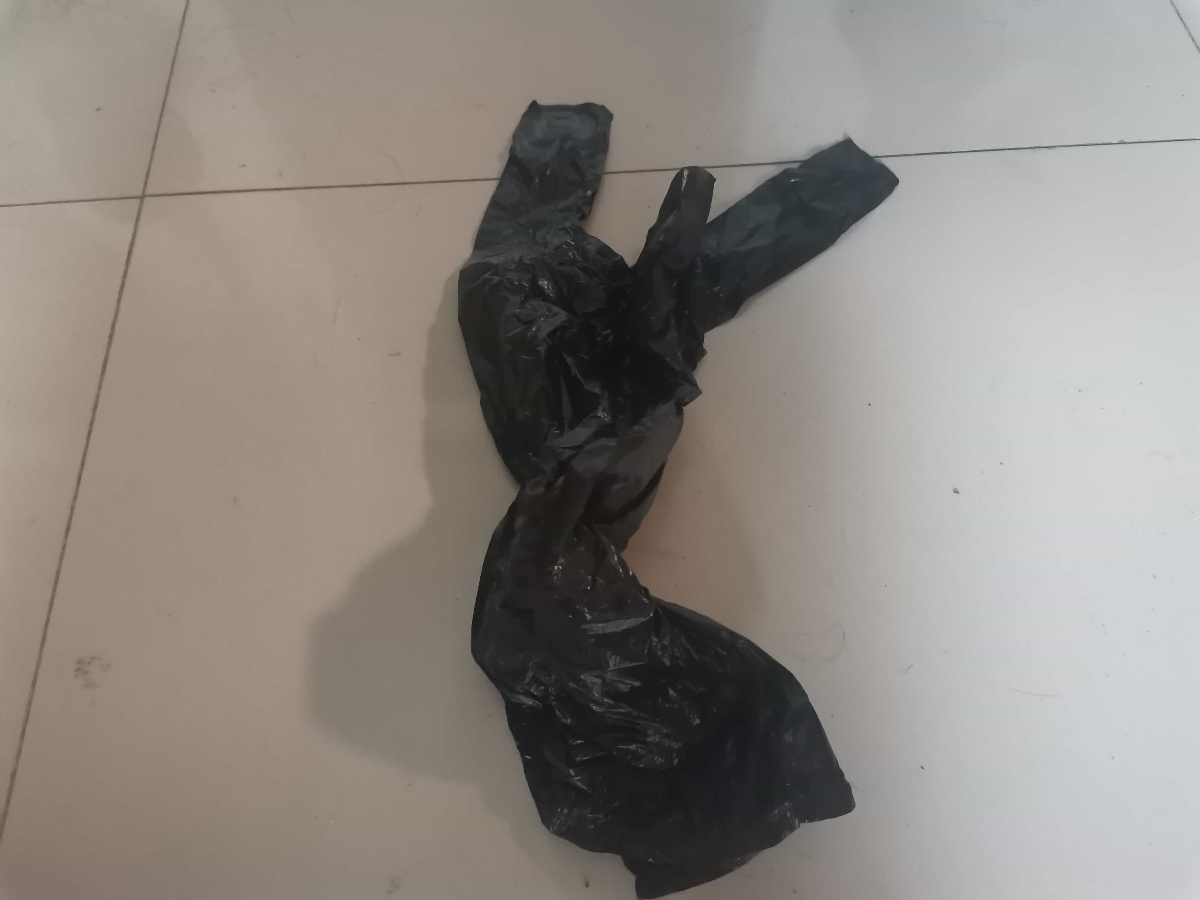plastic bag: (448, 89, 909, 886)
